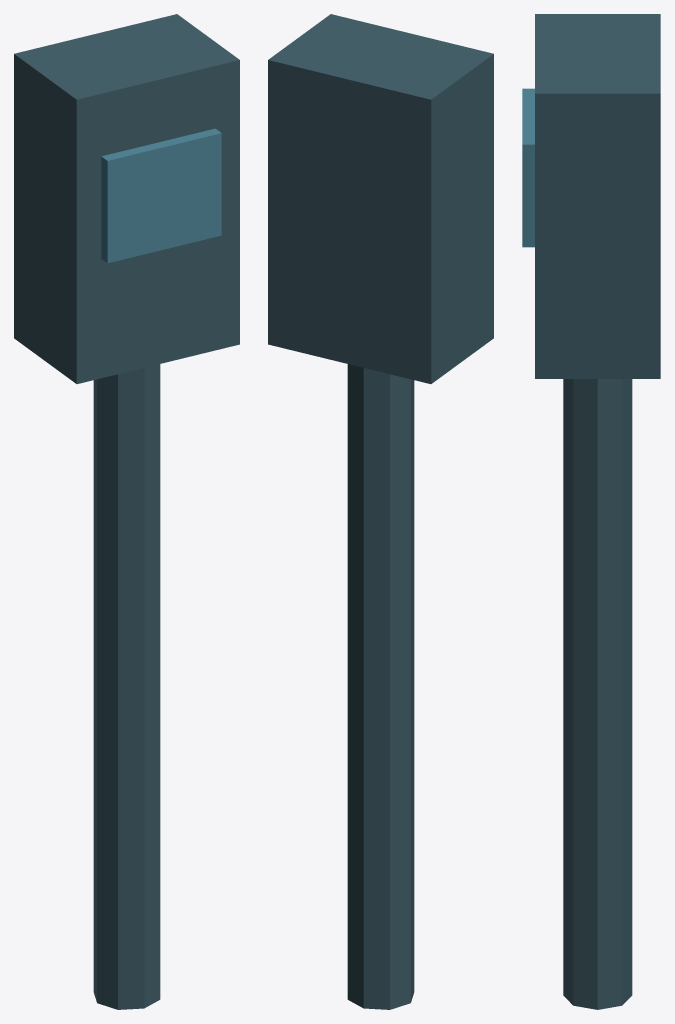
File: parkingMeter.obj
3 renders of one model, left to right at view 1: azimuth 30°, elevation 25°; view 2: azimuth 150°, elevation 25°; view 3: azimuth 270°, elevation 25°, orthographic.
Visible parts, largest first — view 1: parkingMeter; view 2: parkingMeter; view 3: parkingMeter.
Part boxes in pixels (x1,y1,x2,y2): parkingMeter: [14, 14, 239, 1009]; parkingMeter: [268, 14, 493, 1009]; parkingMeter: [522, 14, 660, 1009].
Size of the model in its own units: 0.3 by 1.65 by 0.22.
